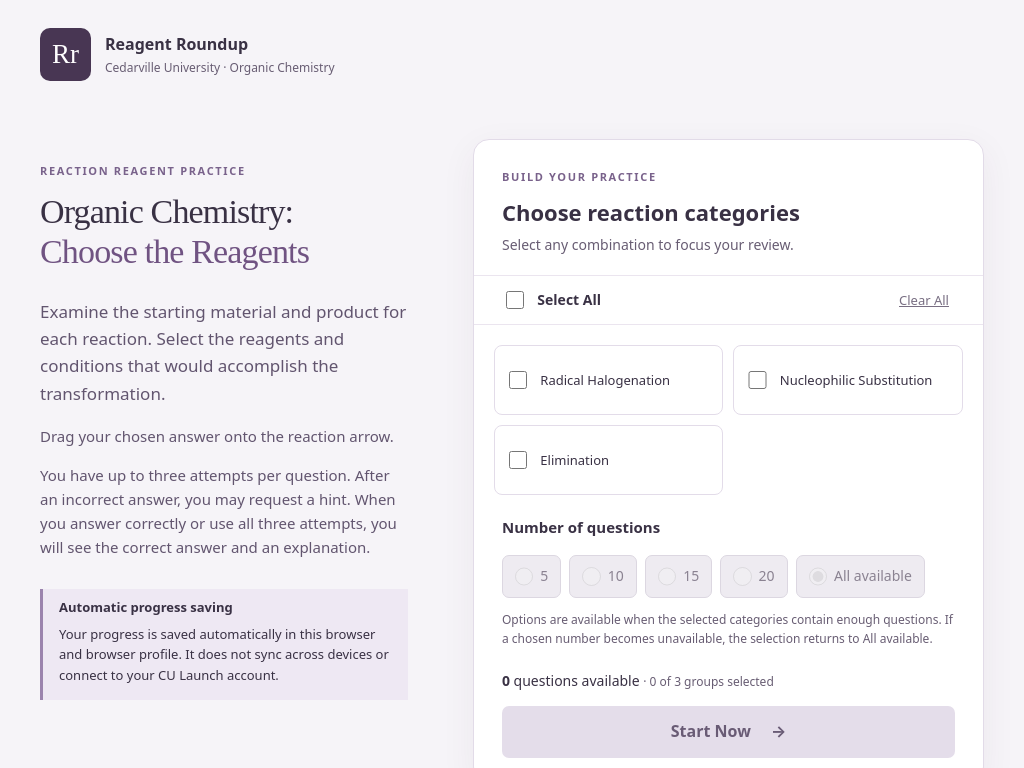
group selection filters underlying question categories › Elimination includes all its categories
Click the checkbox labelled "Elimination" at point(518, 460), box [509,451,527,469]
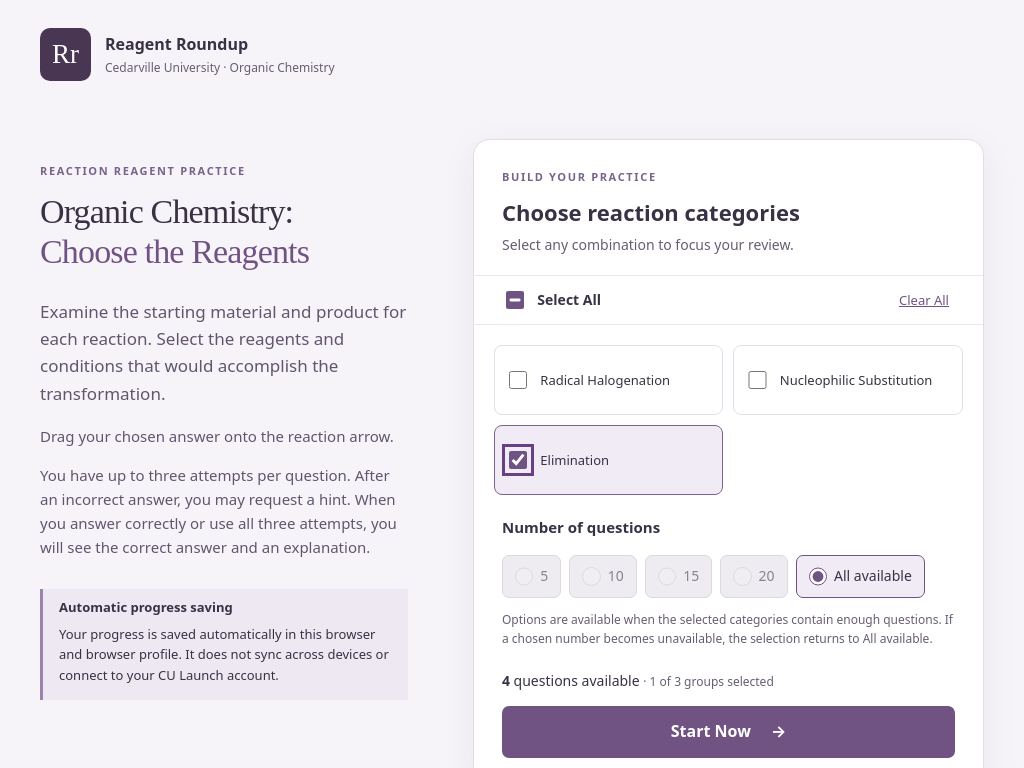
Click the checkbox labelled "Elimination" at point(518, 460), box [509,451,527,469]
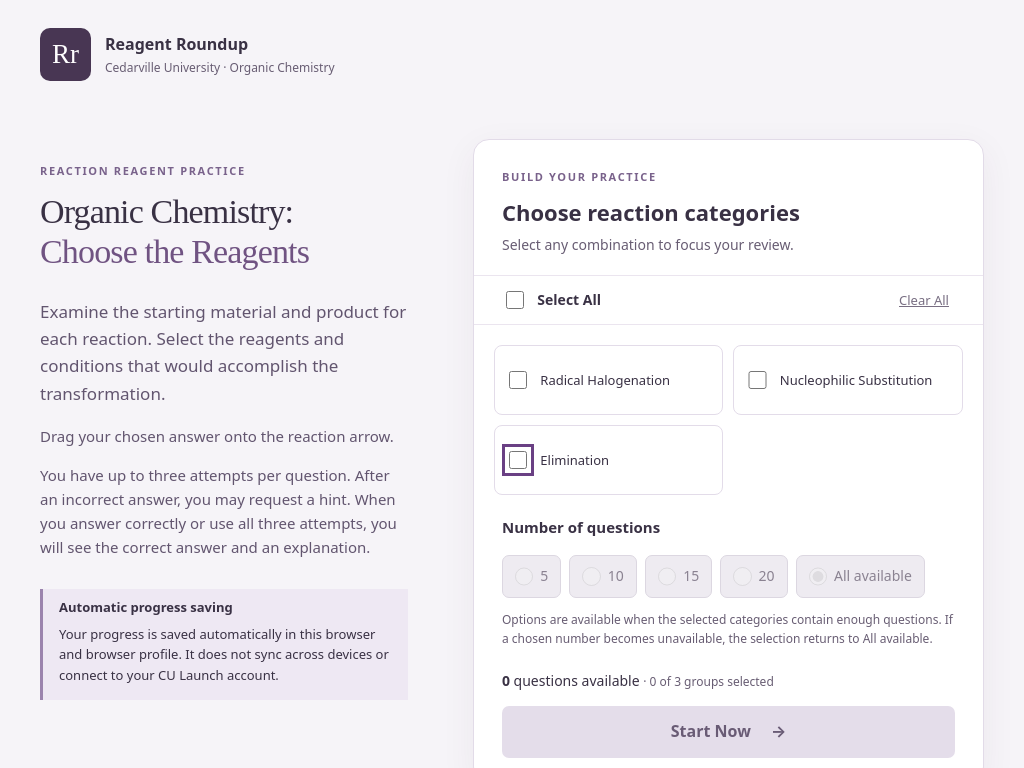
Now the message shows "0 questions available", box [502,671,774,690]
